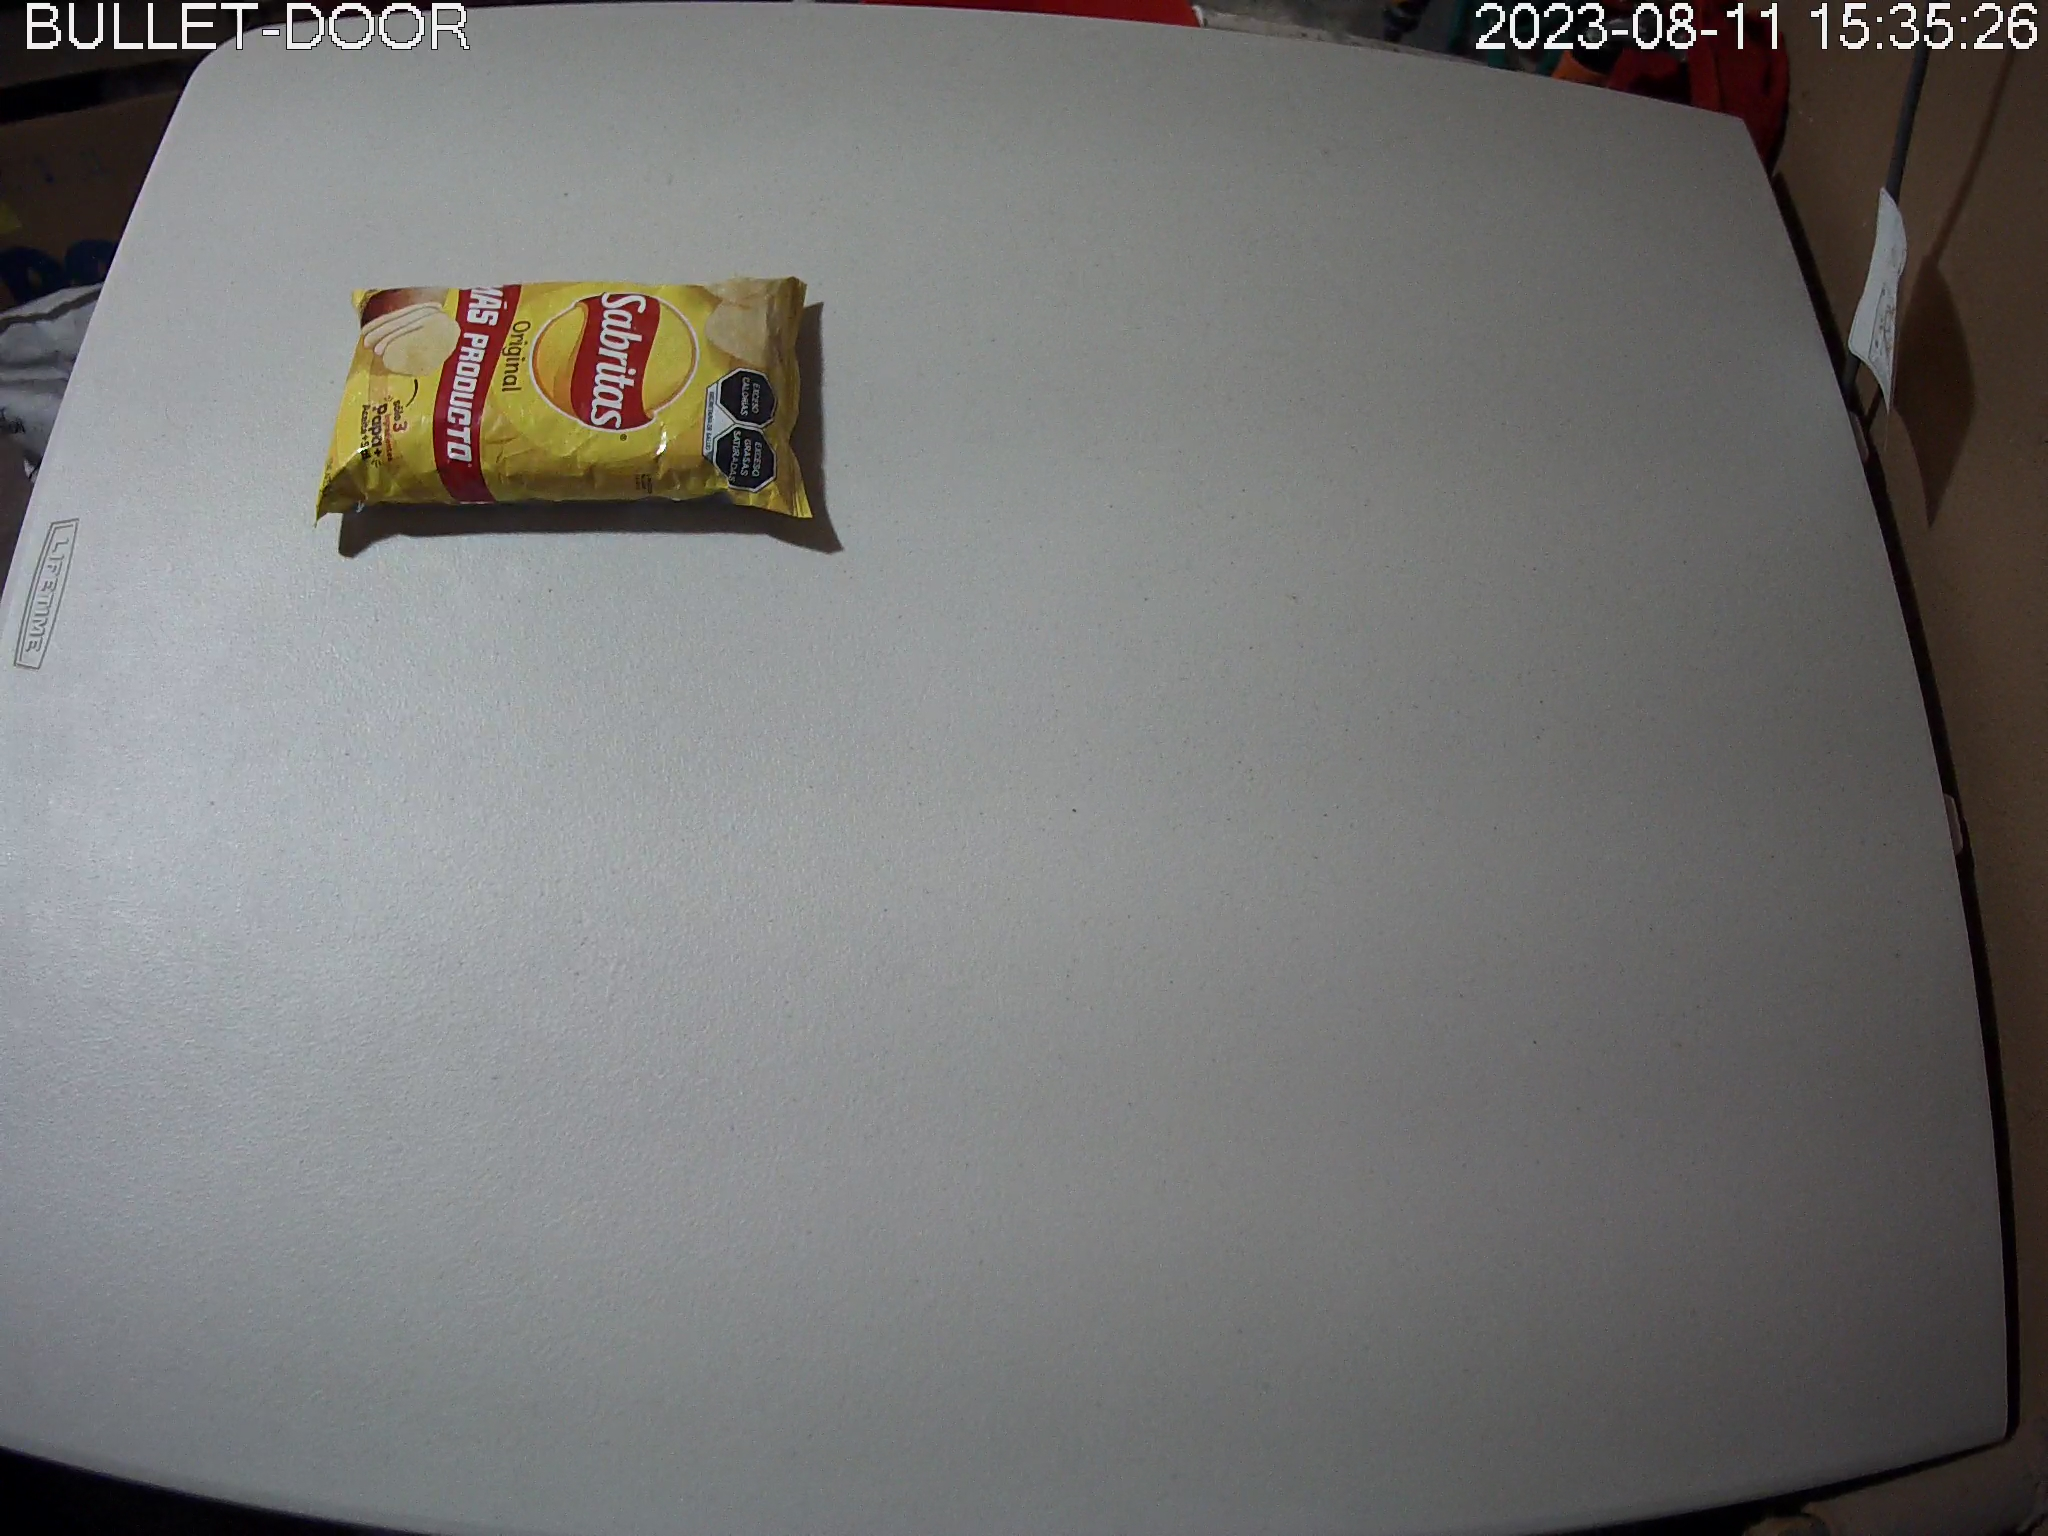Sabritas_45_F: (314, 278, 818, 526)
